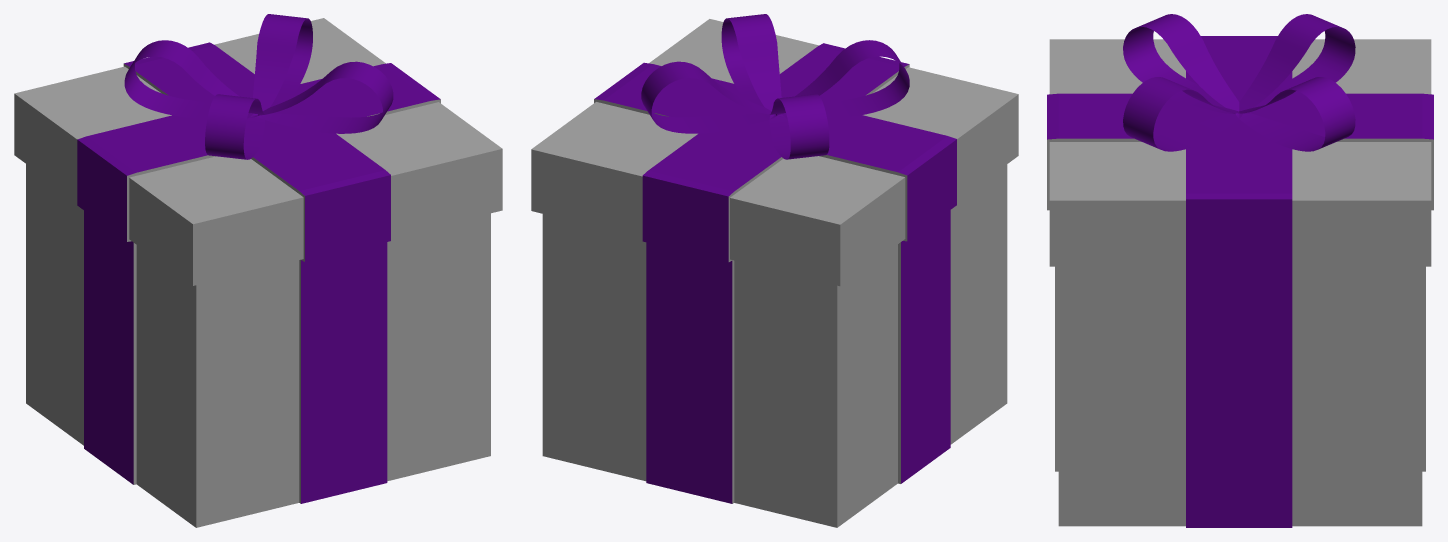
File: Present Small Purple.glb
The picture shows the model from 3 angles, left to right: view 1: azimuth 30°, elevation 25°; view 2: azimuth 150°, elevation 25°; view 3: azimuth 270°, elevation 25°; orthographic projection. The views are drawn at different scales.
Parts seen in each view (by area): view 1: Cube, BézierCircle.001, BézierCircle.003, BézierCircle, BézierCircle.004; view 2: Cube, BézierCircle, BézierCircle.004, BézierCircle.001, BézierCircle.003; view 3: Cube, BézierCircle.003, BézierCircle.004, BézierCircle.001, BézierCircle.
Boxes of the visible parts, x1,y1,x2,y2 form: Cube: (14,18,502,527); BézierCircle.001: (253,14,312,110); BézierCircle.003: (124,40,258,118); BézierCircle: (258,61,393,133); BézierCircle.004: (205,94,264,159); Cube: (531,19,1018,527); BézierCircle: (721,14,781,110); BézierCircle.004: (776,40,909,118); BézierCircle.001: (641,61,776,133); BézierCircle.003: (769,94,829,159); Cube: (1047,36,1433,527); BézierCircle.003: (1239,14,1355,113); BézierCircle.004: (1123,14,1239,113); BézierCircle.001: (1236,77,1355,151); BézierCircle: (1123,77,1242,151).
Bounding box in the file's own units: 0.4257 × 0.4805 × 0.4257.
